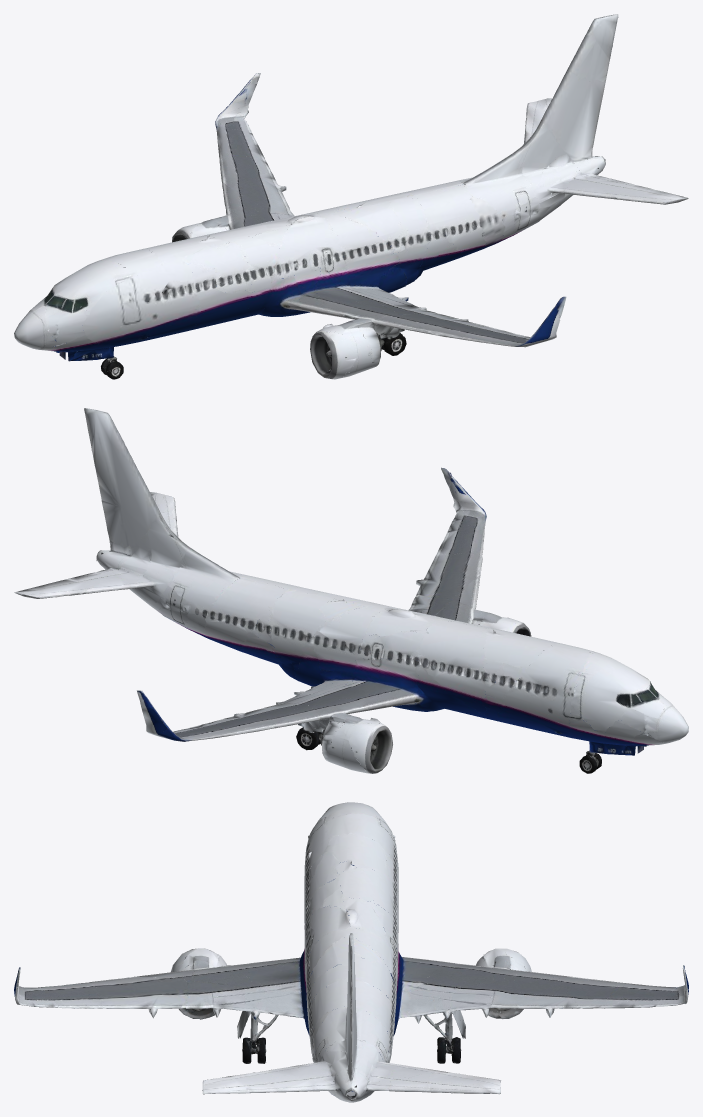
Rendered from co_airliner.glb.
The picture shows the model from 3 angles, top to bottom: view 1: azimuth 30°, elevation 25°; view 2: azimuth 150°, elevation 25°; view 3: azimuth 270°, elevation 25°; orthographic projection. The views are drawn at different scales.
Parts seen in each view (by area): view 1: Mesh_0; view 2: Mesh_0; view 3: Mesh_0.
Part boxes in pixels (x1,y1,x2,y2): Mesh_0: (14, 14, 688, 379); Mesh_0: (14, 408, 688, 773); Mesh_0: (14, 802, 688, 1102).
Size of the model in its own units: 1.9 by 0.7201 by 1.68.
Materials: 1 (1 with a texture image).
